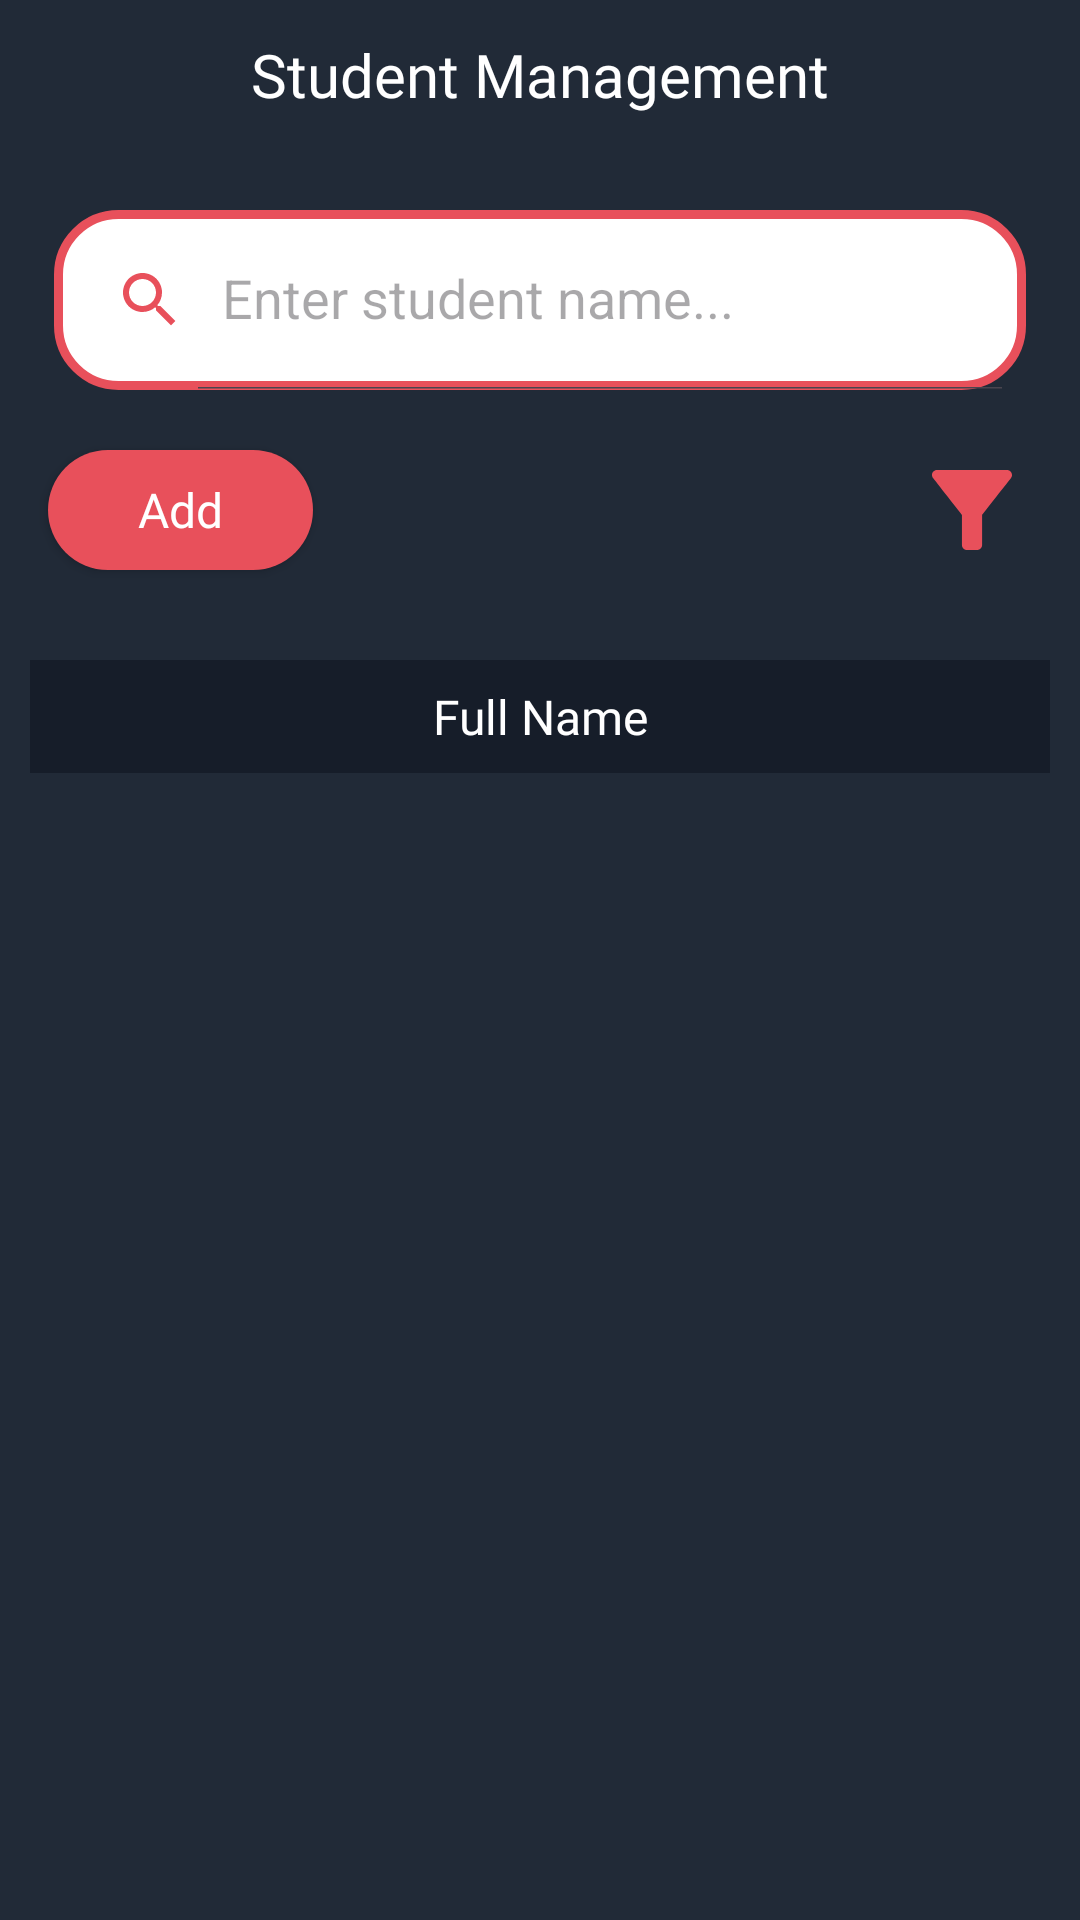

Icons on this 1080px x 1920px Android screen, each with the point to tap as (x,y):
filter: (972,510)
